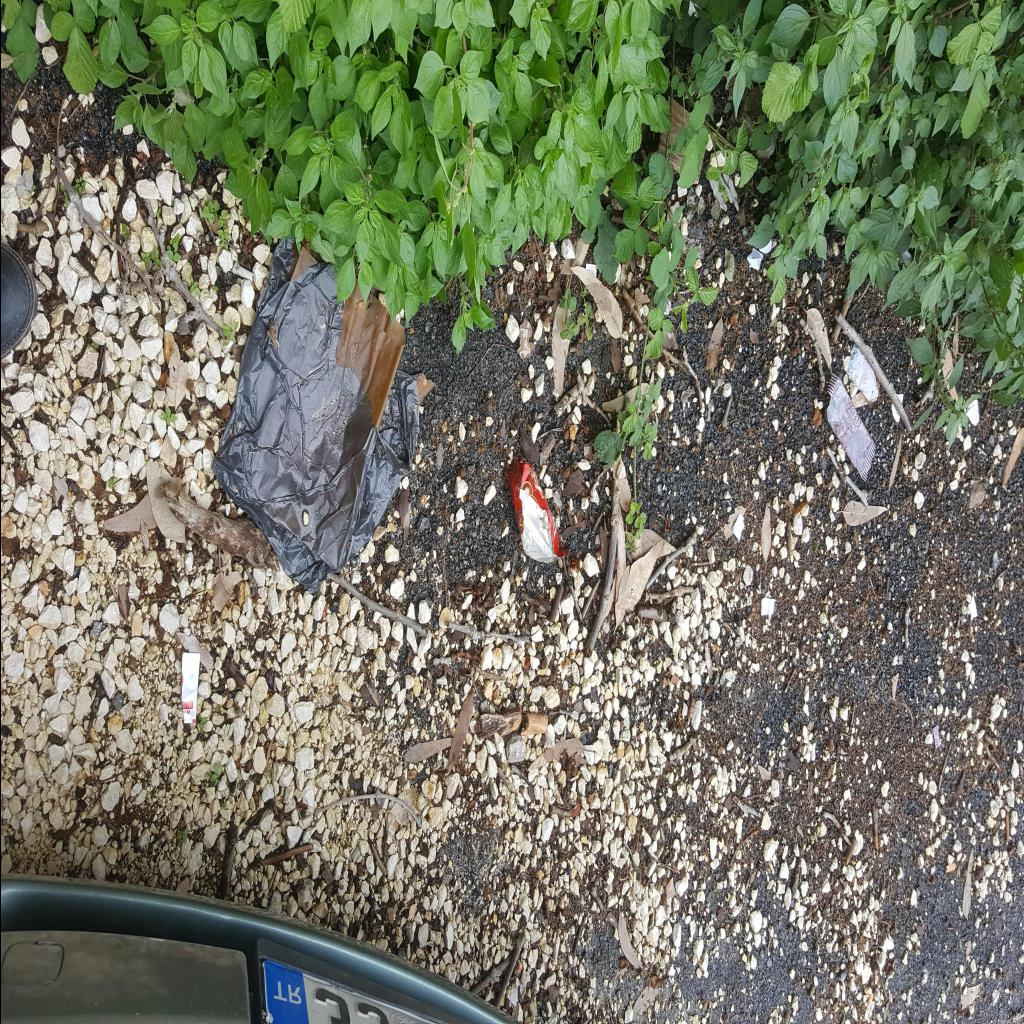Cigarette: (230, 260, 252, 282), (944, 861, 954, 872)
Garbage bag: (210, 239, 418, 599)
Other plastic: (509, 455, 569, 563), (825, 374, 875, 482), (180, 653, 200, 723), (930, 724, 940, 750), (585, 263, 596, 276)
Paper bag: (286, 242, 405, 429)
Unlabeled litter: (746, 250, 763, 270)
